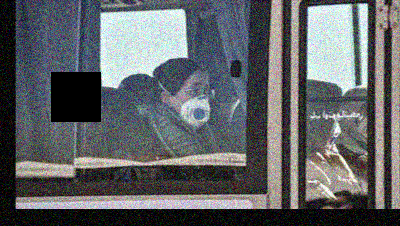with_mask: (176, 80, 212, 132)
